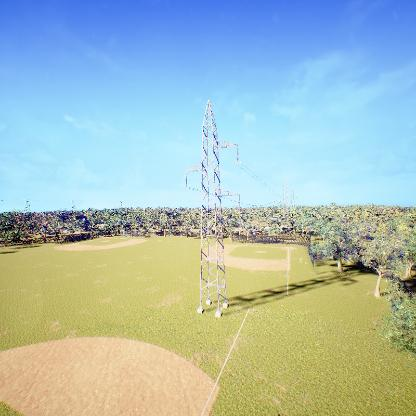tower: (182, 98, 244, 321)
